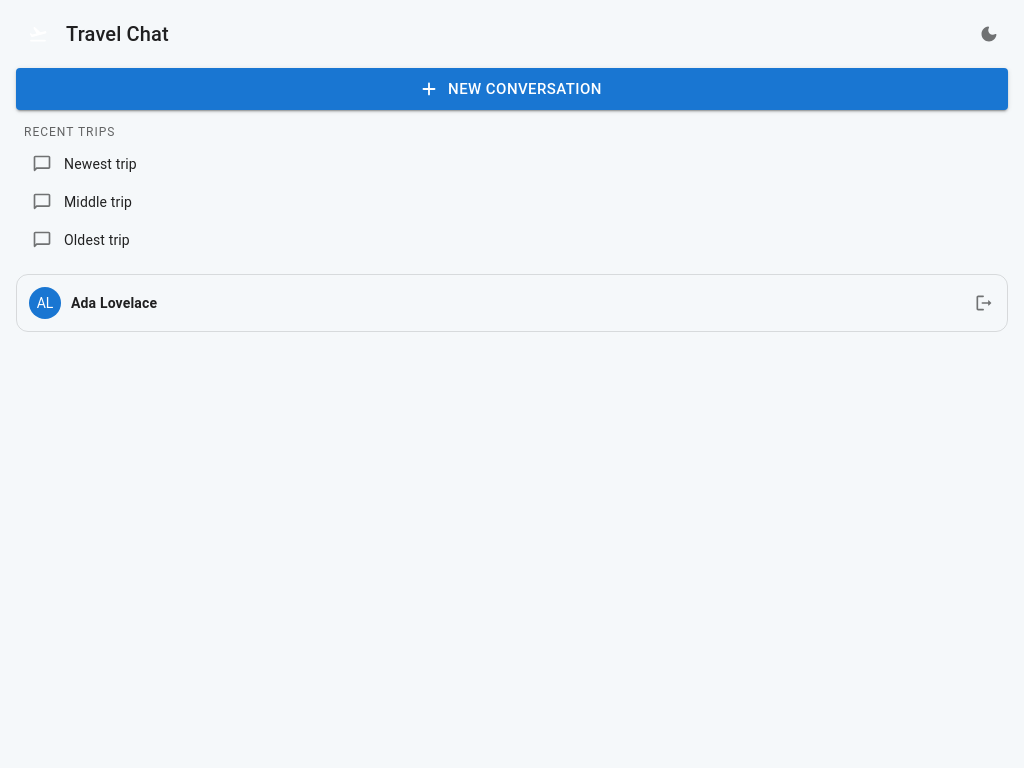
Test: Sidebar › shows name and email in the profile dialog
The width and height of the screenshot is (1024, 768).
Step 1. Click the button with aria-label "Profile" → (45, 303), box [25,283,961,323]
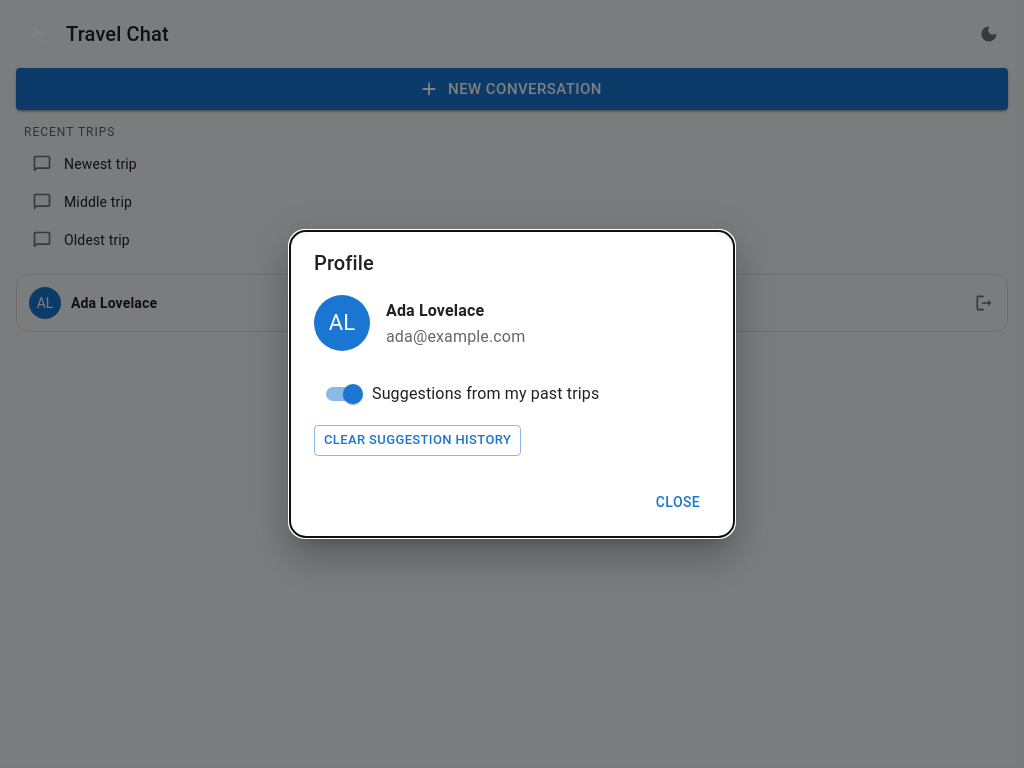
Now the heading "Ada Lovelace" is shown, box [386,301,484,320]
Now the text "ada@example.com" is shown, box [386,325,525,349]
